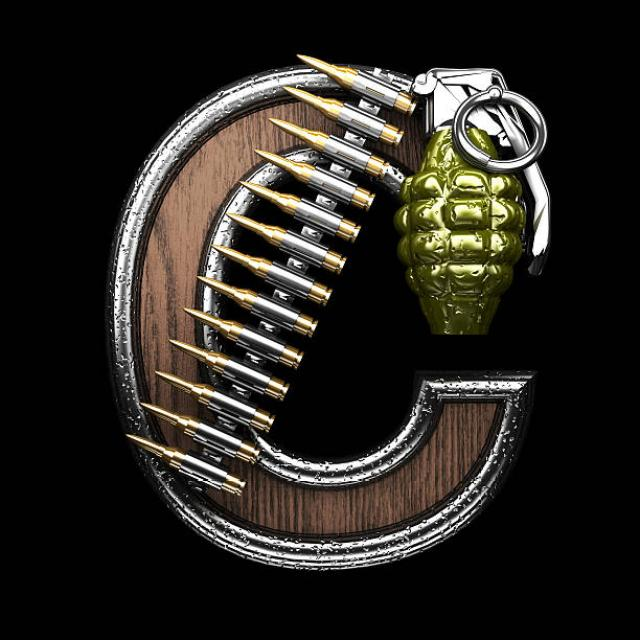grenade: (398, 67, 558, 338)
